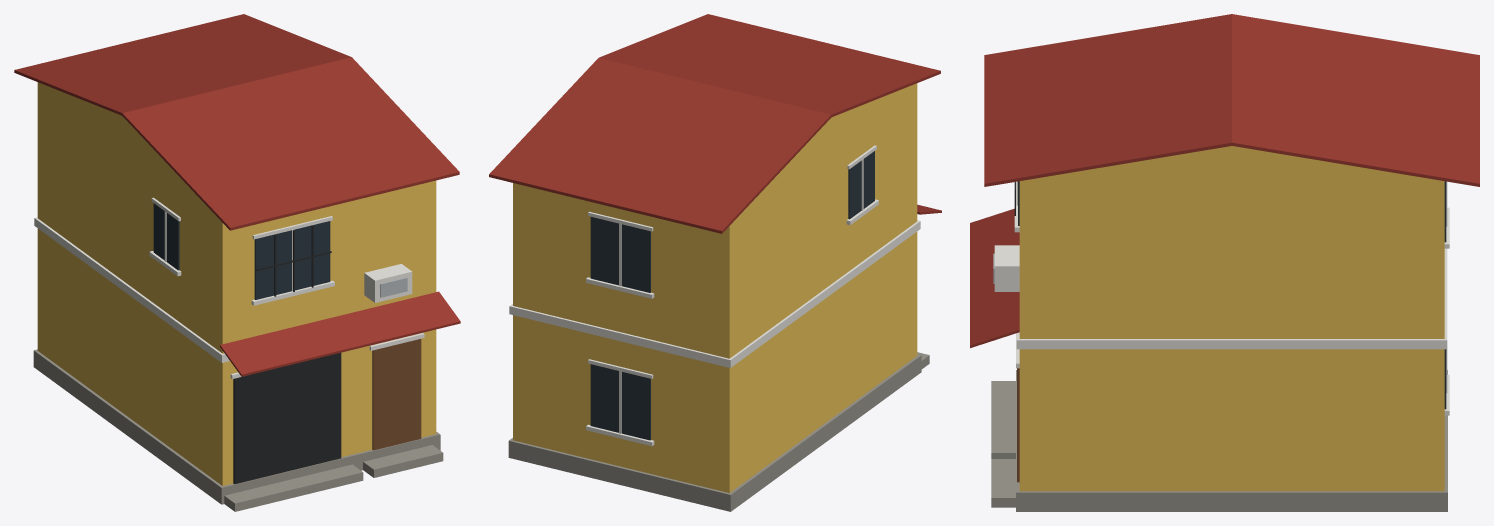
The model's file is BAY_F_TwoStorey_P.glb.
3 renders of one model, left to right at view 1: azimuth 30°, elevation 25°; view 2: azimuth 150°, elevation 25°; view 3: azimuth 270°, elevation 25°, orthographic. The views are drawn at different scales.
Parts seen in each view (by area): view 1: BAY_F_TwoStorey_P; view 2: BAY_F_TwoStorey_P; view 3: BAY_F_TwoStorey_P.
Boxes of the visible parts, left/top/right/bottom form: BAY_F_TwoStorey_P: left=14, top=14, right=460, bottom=511; BAY_F_TwoStorey_P: left=489, top=14, right=941, bottom=511; BAY_F_TwoStorey_P: left=970, top=14, right=1479, bottom=511.
Size of the model in its own units: 4.3 by 5.8 by 7.2.
Materials: 1 (1 with a texture image).
